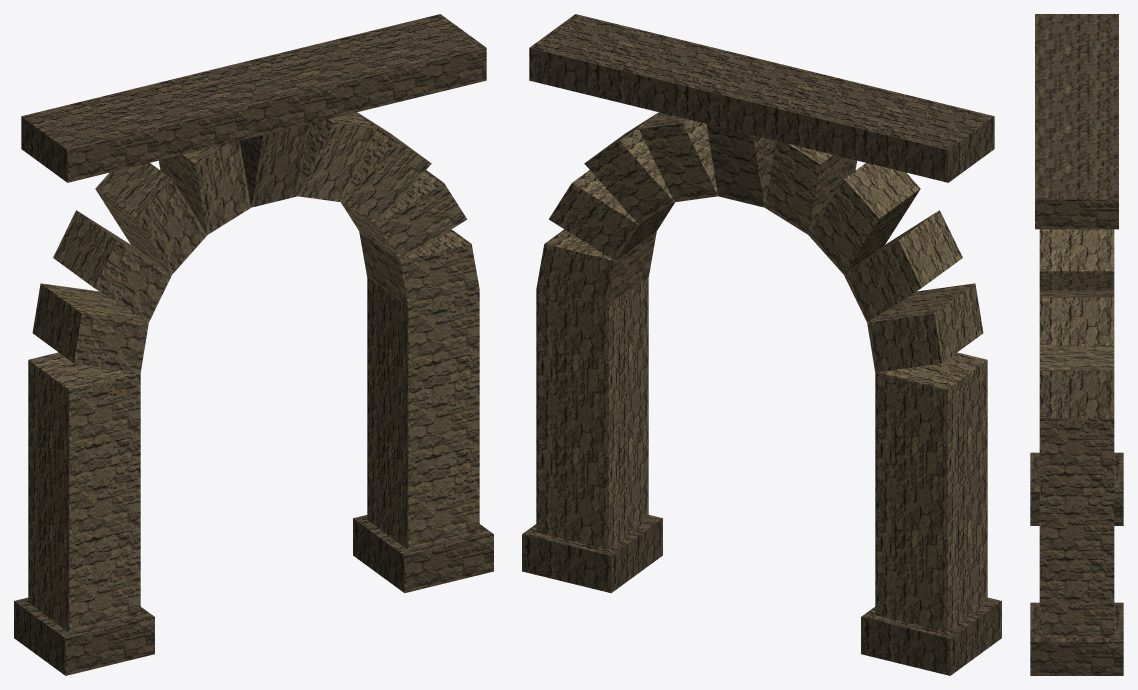
The model's file is stone_arch_01.glb.
3 views of the same model, side by side, from view 1: azimuth 30°, elevation 25°; view 2: azimuth 150°, elevation 25°; view 3: azimuth 270°, elevation 25° (orthographic). The views are drawn at different scales.
Visible parts, largest first — view 1: stone_arch_01; view 2: stone_arch_01; view 3: stone_arch_01.
Part boxes in pixels (x1,y1,x2,y2): stone_arch_01: [14, 14, 493, 675]; stone_arch_01: [522, 14, 1001, 675]; stone_arch_01: [1030, 14, 1123, 675].
Size of the model in its own units: 4.8 by 5.6 by 1.
2 materials, 2 textured.
